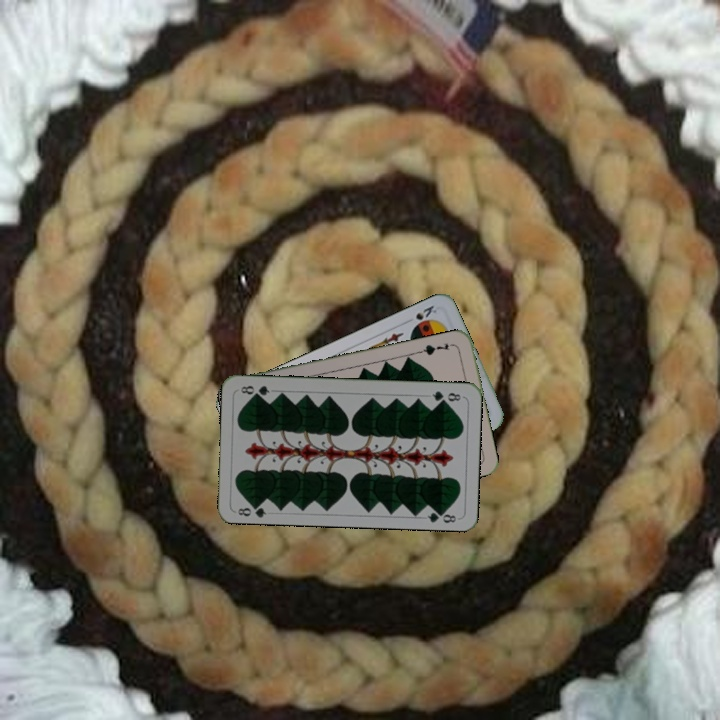G7: (416, 339, 452, 358)
G8: (234, 499, 269, 519), (428, 387, 465, 405)
SK: (401, 301, 439, 326)
